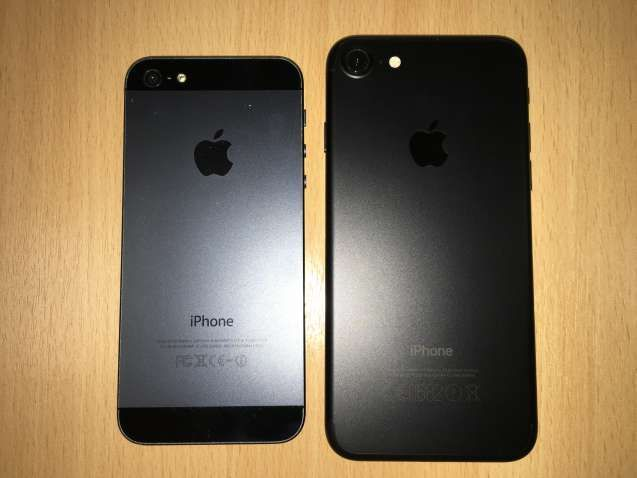apple: (396, 112, 457, 174), (188, 124, 238, 184)
